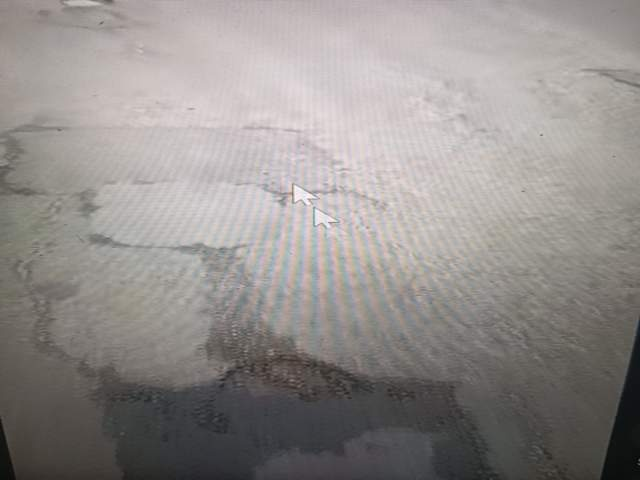pothole: (126, 404, 369, 480)
